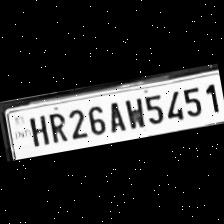1: (200, 80, 222, 115)
2: (63, 104, 88, 141)
4: (160, 86, 183, 122)
5: (178, 83, 204, 119), (140, 90, 164, 127)
6: (82, 101, 108, 137)
A: (102, 98, 125, 134)
H: (24, 111, 50, 148)
R: (42, 106, 66, 146)
W: (120, 94, 145, 132)
